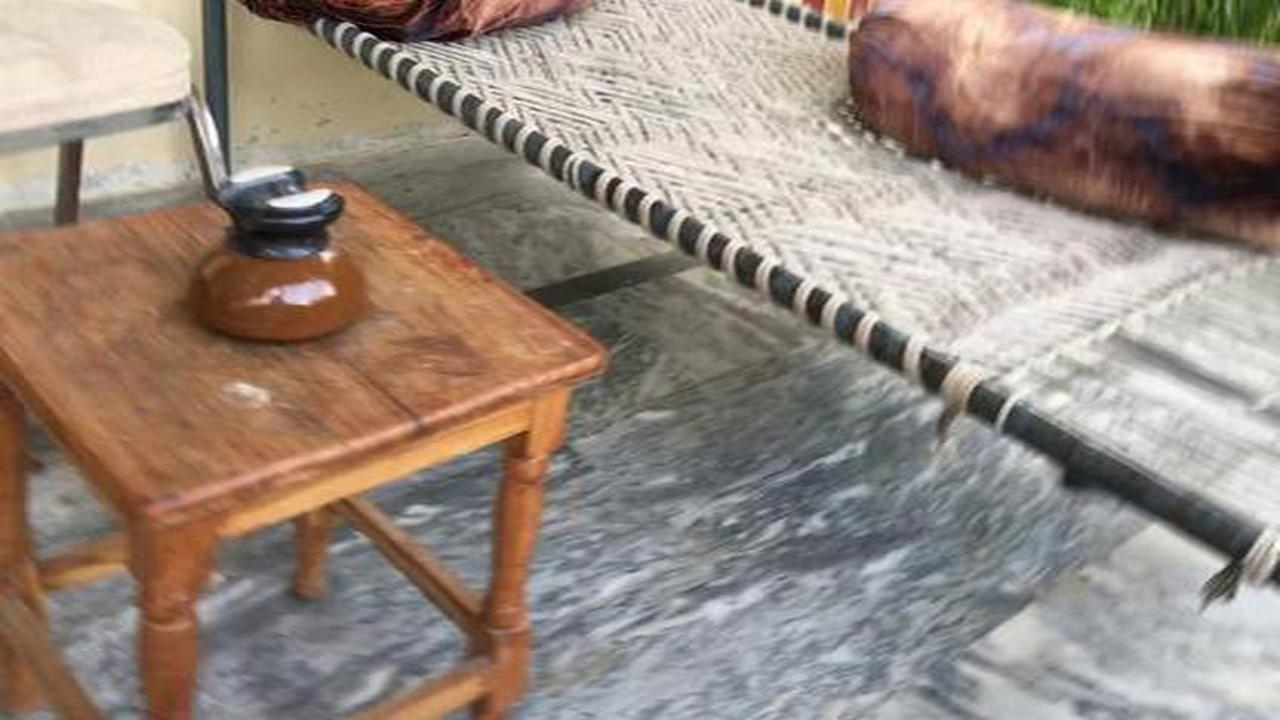insulator_pin: (169, 144, 379, 355)
